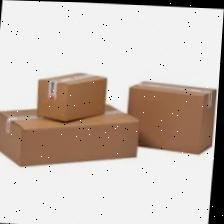cardboard: (0, 98, 141, 174), (126, 55, 219, 162), (28, 61, 115, 131)
